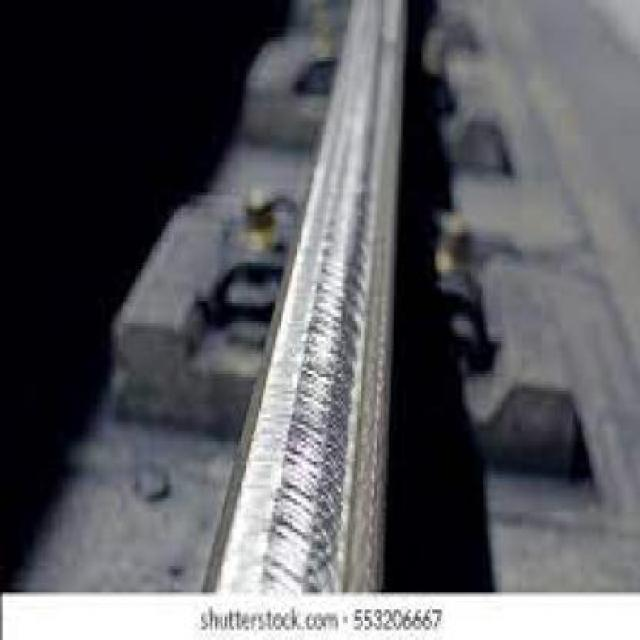defective: (181, 0, 420, 595)
